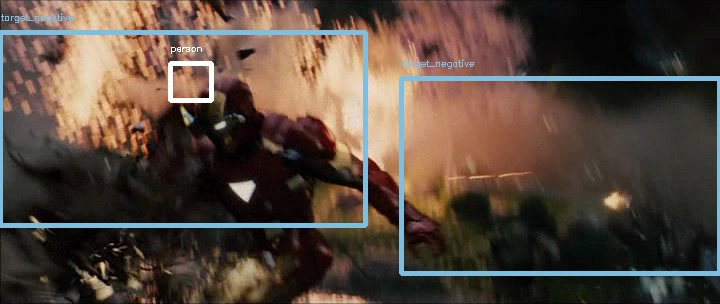person: (202, 81, 252, 149), (201, 81, 251, 149), (203, 81, 253, 149), (202, 80, 252, 148), (202, 82, 252, 150)
target_negative: (478, 25, 619, 258), (127, 145, 400, 230), (311, 120, 409, 275), (379, 109, 557, 152), (291, 217, 382, 297), (517, 29, 520, 227)
